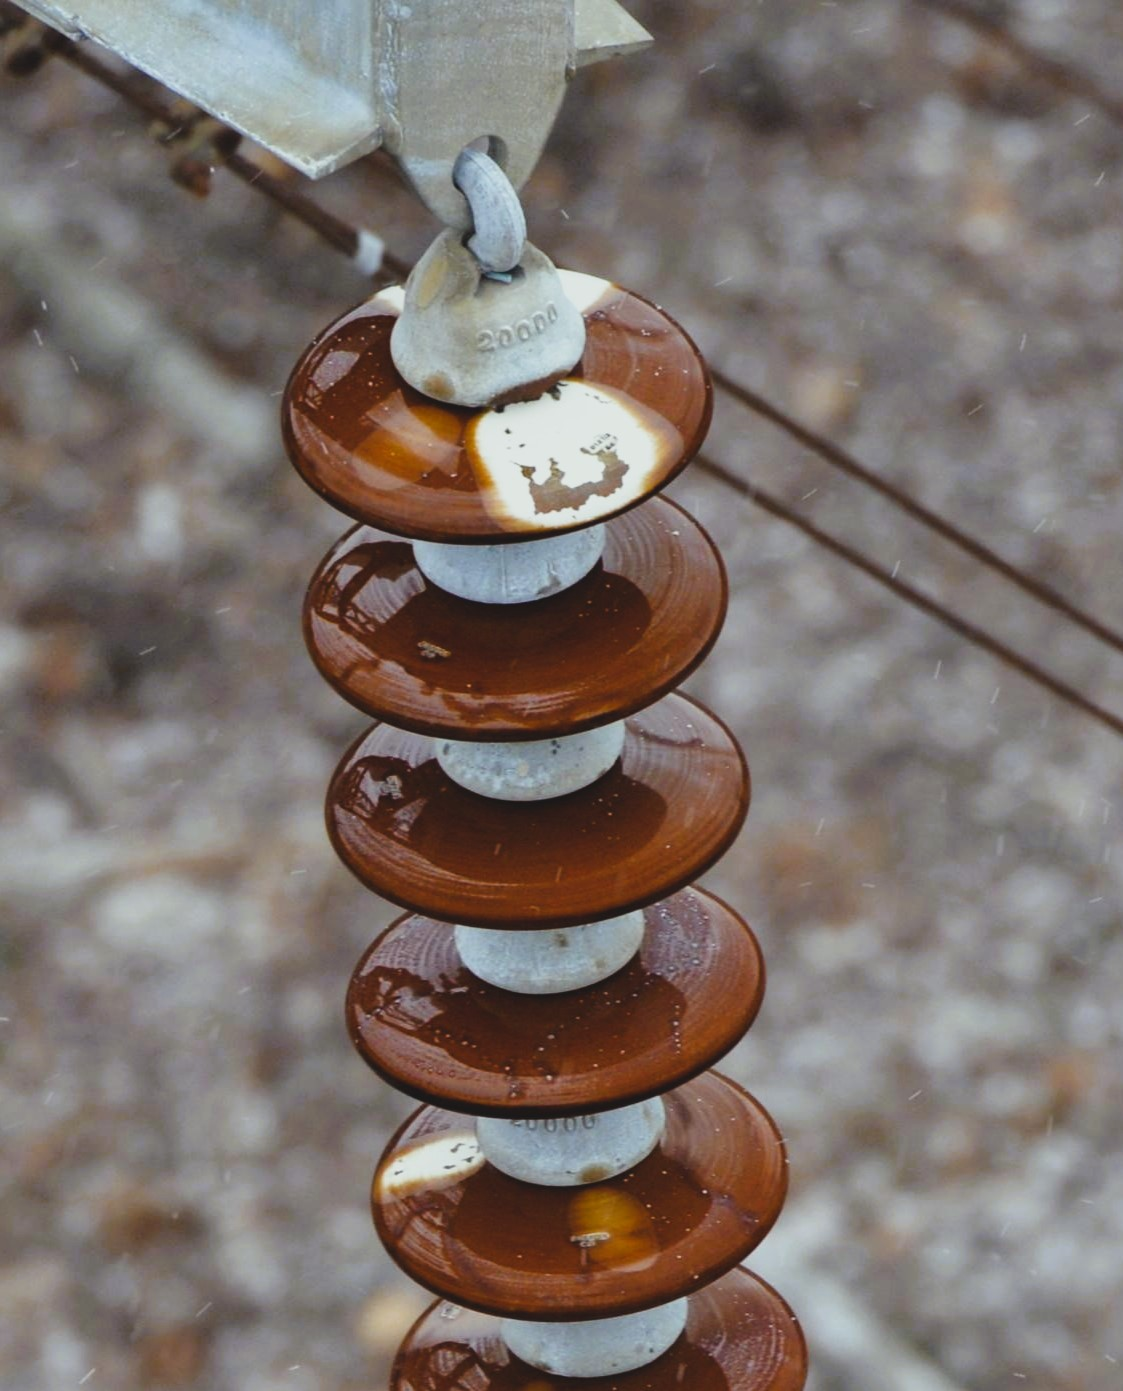Insulator flashover: (264, 245, 725, 558)
